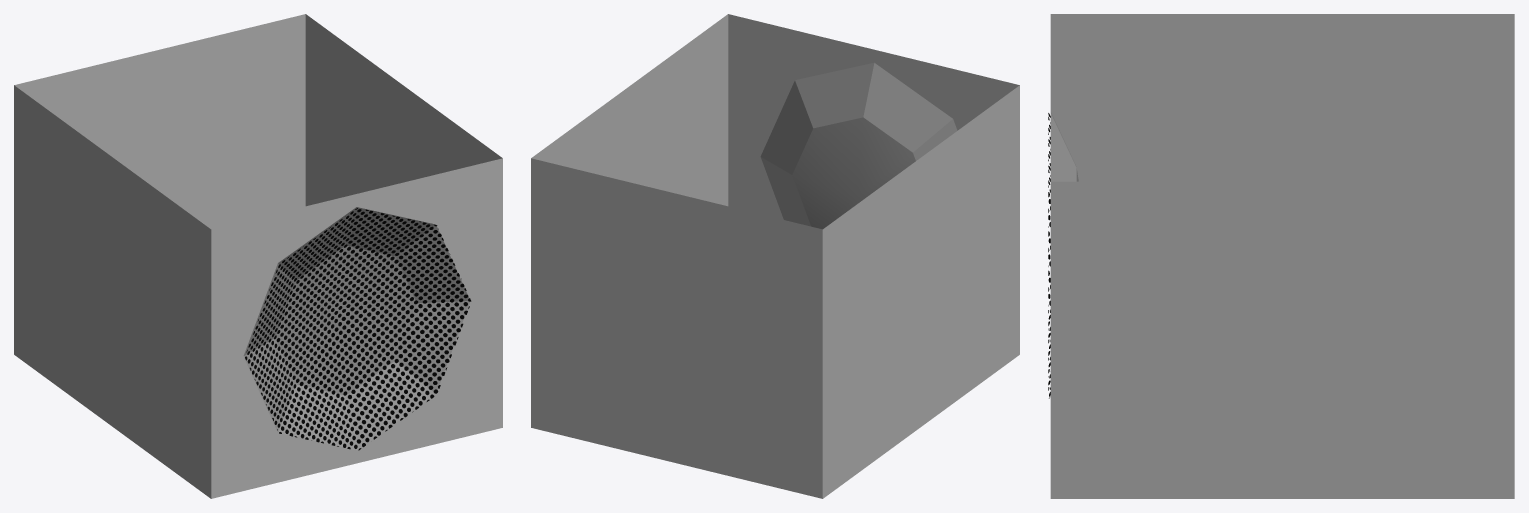
Rendered from Itr_Obj_Speaker1_Base_01.FBX.
The picture shows the model from 3 angles, left to right: view 1: azimuth 30°, elevation 25°; view 2: azimuth 150°, elevation 25°; view 3: azimuth 270°, elevation 25°; orthographic projection. The views are drawn at different scales.
Visible parts, largest first — view 1: Itr_Obj_Speaker1_Base_01; view 2: Itr_Obj_Speaker1_Base_01; view 3: Itr_Obj_Speaker1_Base_01.
Part boxes in pixels (x1,y1,x2,y2): Itr_Obj_Speaker1_Base_01: [14, 14, 502, 498]; Itr_Obj_Speaker1_Base_01: [531, 14, 1019, 498]; Itr_Obj_Speaker1_Base_01: [1048, 14, 1514, 498].
Bounding box in the file's own units: 9.88 × 8.72 × 11.62.
